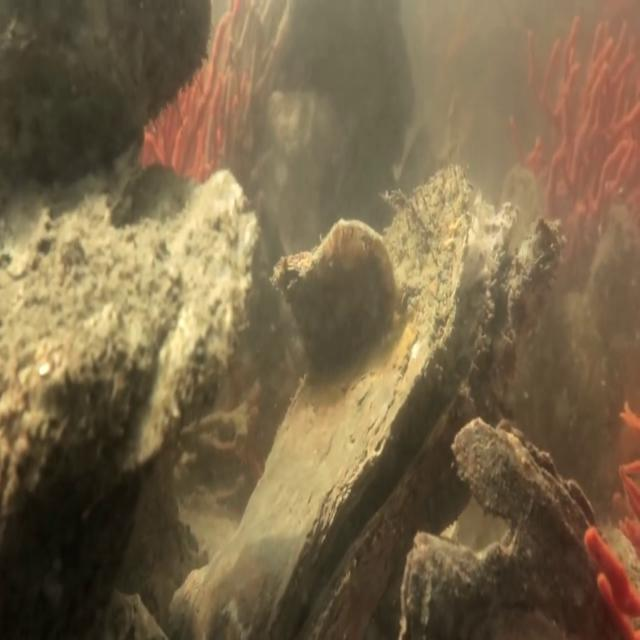Oyster-Closed: (3, 159, 267, 542)
Oyster-Indeterminate: (397, 415, 601, 634)
Oyster-Open: (166, 145, 577, 632)
